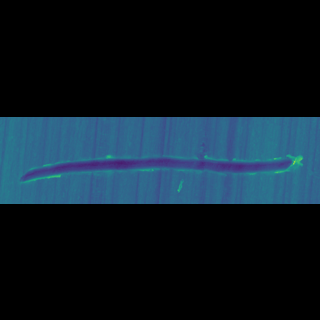Loch: (16, 156, 306, 166), (175, 164, 188, 168)
